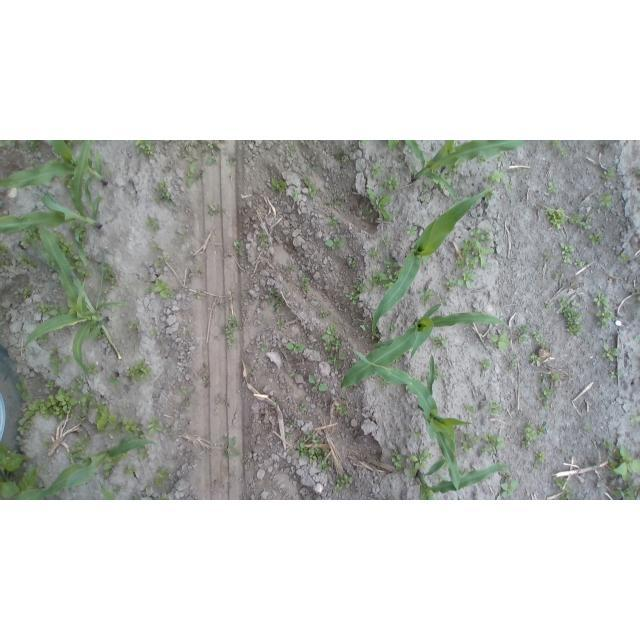Maize: (371, 185, 494, 339), (347, 347, 471, 492), (24, 226, 125, 379), (340, 305, 510, 390), (1, 141, 104, 234), (17, 438, 158, 500), (403, 140, 523, 200), (0, 140, 108, 206), (418, 463, 511, 500), (98, 480, 114, 500), (386, 141, 400, 152)
Weeds: (18, 386, 95, 437), (1, 444, 40, 498), (95, 401, 141, 438), (295, 431, 333, 474), (455, 241, 494, 272), (608, 446, 640, 483), (322, 323, 344, 370), (557, 298, 583, 337), (365, 189, 392, 224), (369, 260, 397, 285), (49, 348, 71, 379), (521, 422, 546, 449), (221, 315, 240, 349), (69, 436, 91, 463), (298, 166, 317, 197), (480, 433, 504, 456), (546, 206, 567, 231), (266, 286, 285, 313), (129, 359, 152, 381), (408, 446, 428, 470), (15, 375, 33, 401), (220, 435, 240, 458), (307, 374, 330, 394), (569, 212, 593, 231), (153, 179, 173, 201), (154, 278, 176, 298), (460, 432, 482, 452), (188, 162, 205, 187), (608, 485, 636, 500), (469, 226, 492, 244), (554, 476, 571, 500), (347, 283, 365, 305), (596, 307, 613, 330), (335, 474, 354, 494), (490, 331, 510, 350), (501, 478, 519, 498), (458, 273, 479, 290), (560, 242, 575, 265), (381, 173, 399, 192), (21, 231, 40, 249), (134, 140, 155, 156), (429, 334, 450, 350), (602, 343, 619, 362), (154, 468, 170, 488), (270, 177, 288, 194), (69, 224, 87, 241), (594, 293, 613, 309), (391, 450, 405, 471), (147, 418, 165, 434), (1, 241, 12, 267), (421, 288, 436, 306), (325, 237, 344, 251), (144, 214, 160, 230), (369, 249, 386, 264), (286, 342, 307, 354), (487, 170, 506, 183), (337, 399, 350, 417), (518, 324, 531, 342), (488, 399, 503, 414), (17, 254, 32, 269), (537, 387, 553, 401), (61, 239, 75, 255), (105, 457, 117, 475), (589, 232, 604, 246), (75, 375, 90, 389), (299, 275, 310, 294), (49, 305, 69, 315), (507, 354, 518, 372), (443, 276, 456, 291), (532, 331, 545, 346), (54, 231, 67, 246), (600, 170, 616, 182), (26, 140, 42, 152), (547, 140, 561, 153), (124, 465, 140, 476), (71, 255, 82, 271), (408, 429, 422, 441), (102, 272, 116, 284), (108, 375, 121, 387), (138, 448, 150, 461), (479, 358, 491, 371), (599, 195, 611, 208), (326, 197, 341, 207), (603, 437, 615, 449), (37, 302, 49, 314), (370, 165, 383, 176), (259, 232, 269, 246), (79, 269, 94, 278), (358, 320, 369, 332), (629, 415, 640, 427), (546, 182, 558, 193), (100, 260, 112, 271), (534, 451, 547, 461), (157, 256, 167, 269), (531, 353, 542, 364), (87, 363, 98, 374), (208, 204, 218, 216), (21, 286, 31, 298), (382, 235, 391, 248), (544, 248, 553, 261), (291, 188, 299, 202), (149, 327, 159, 338), (575, 258, 586, 268), (559, 148, 569, 159), (350, 257, 359, 269), (326, 217, 338, 226), (149, 241, 159, 251), (542, 401, 552, 411), (494, 154, 504, 164), (407, 226, 418, 235), (465, 405, 475, 414), (320, 311, 330, 320), (259, 342, 268, 352), (617, 252, 627, 261), (540, 374, 549, 384), (46, 381, 55, 391), (37, 335, 48, 343), (176, 389, 188, 396), (10, 140, 17, 152), (30, 160, 39, 169), (299, 402, 307, 412), (129, 321, 139, 329), (284, 262, 294, 270), (207, 157, 217, 165), (41, 443, 52, 450), (153, 494, 168, 499), (285, 432, 293, 441), (406, 471, 418, 477), (233, 240, 241, 249), (342, 155, 351, 163), (380, 380, 388, 389), (435, 372, 444, 380), (114, 485, 123, 493), (276, 319, 286, 326), (372, 321, 388, 325), (532, 464, 540, 472), (610, 372, 618, 380), (552, 374, 560, 382), (477, 157, 487, 163), (583, 424, 590, 432), (195, 291, 202, 299), (145, 286, 152, 294), (545, 303, 552, 310), (552, 274, 559, 281), (505, 184, 512, 191), (503, 473, 511, 479), (290, 147, 298, 153), (0, 140, 6, 148), (275, 397, 280, 406), (335, 154, 341, 161), (438, 298, 446, 303), (361, 140, 367, 146), (290, 373, 297, 378), (207, 143, 214, 148), (90, 140, 98, 144), (421, 376, 426, 381), (252, 371, 257, 375), (597, 210, 601, 214)
